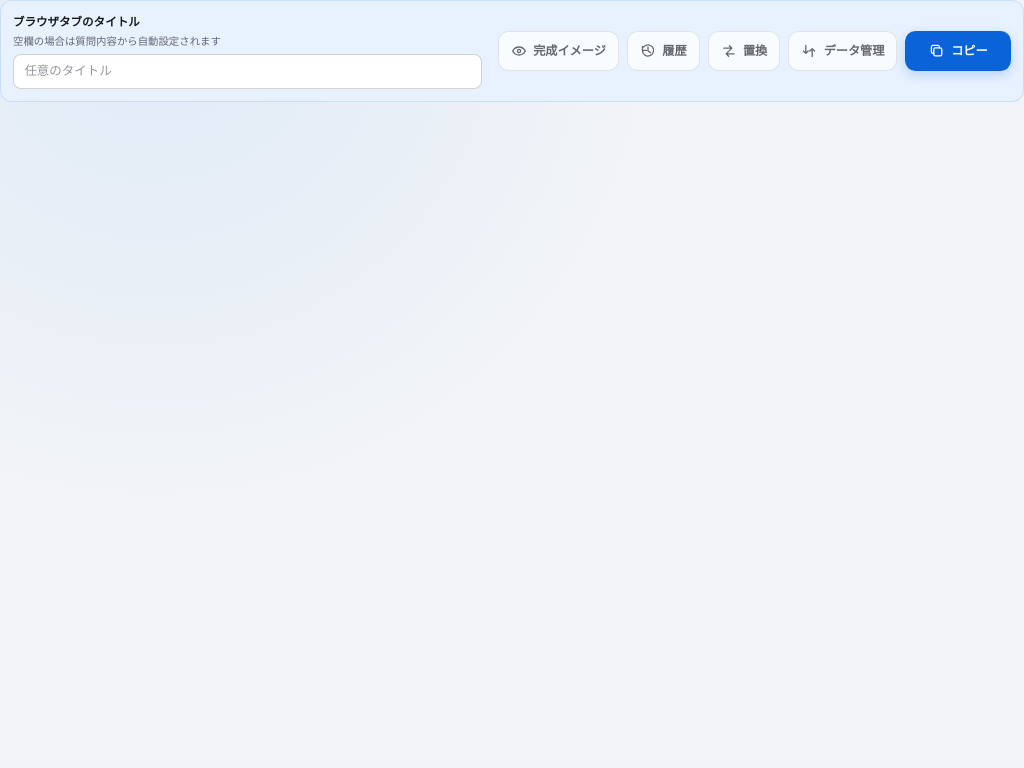
PromptOutputComponent › 履歴モーダルの開閉で履歴が更新される
Click the button with id "history-btn". click: (663, 51)
box: [627,31,700,71]
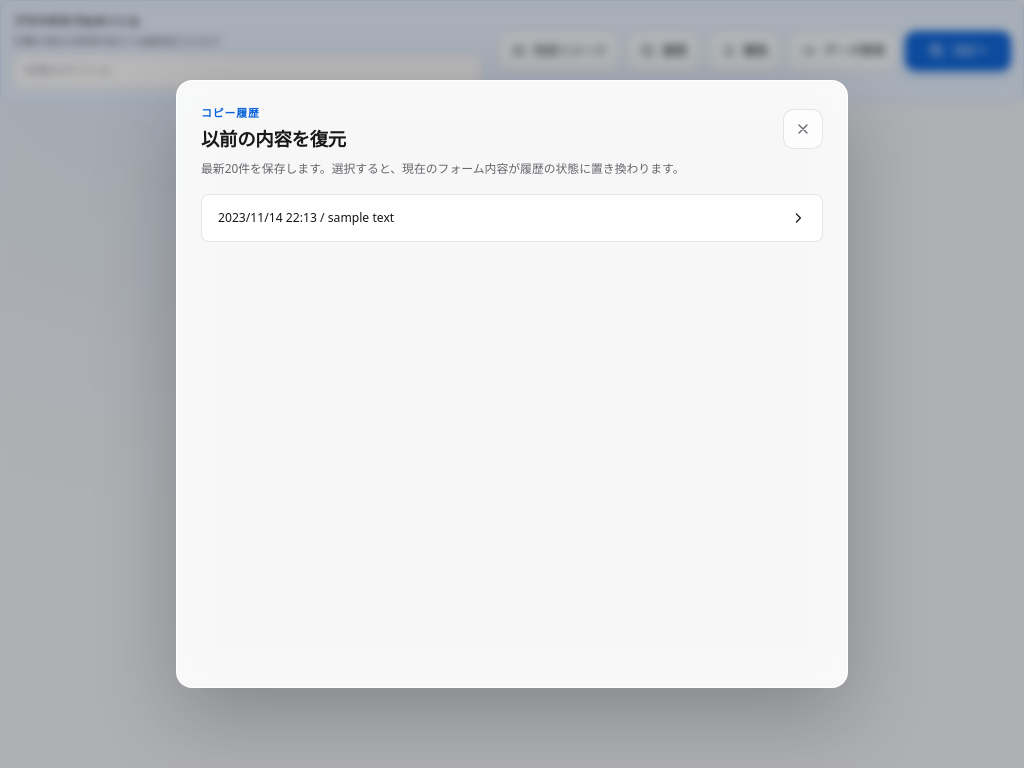
Now the element with class "history-overlay" is shown
Click the element with class "history-overlay". click: (61, 384)
box: [0,0,1023,767]
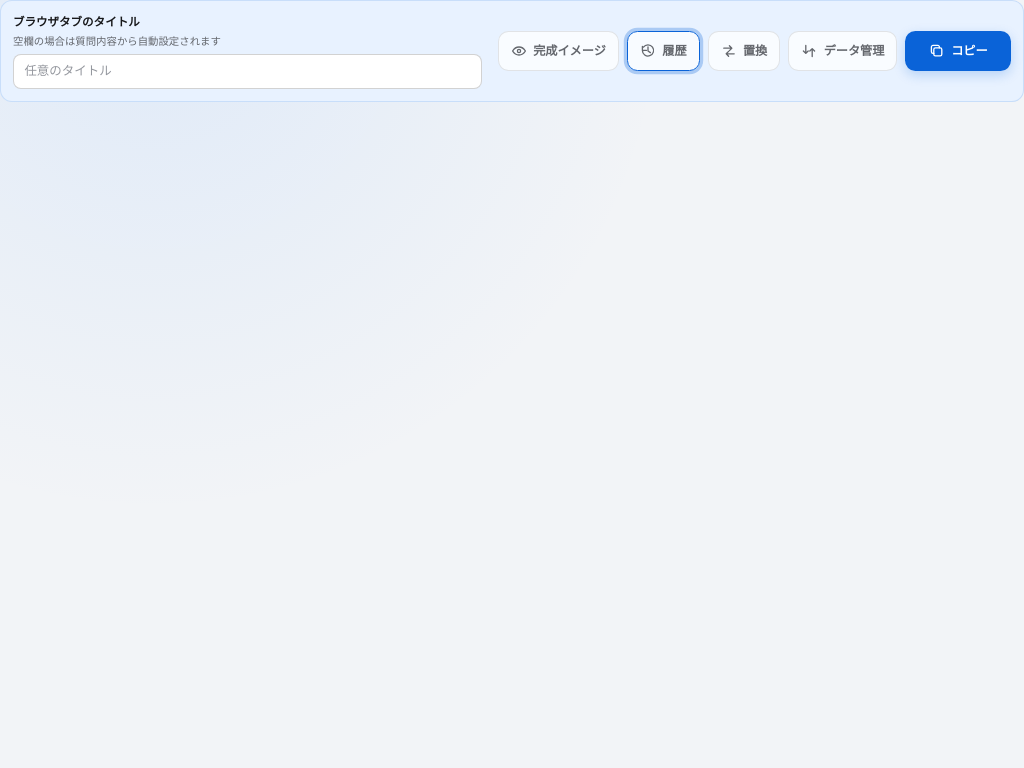
Now the element with class "history-overlay" is gone
